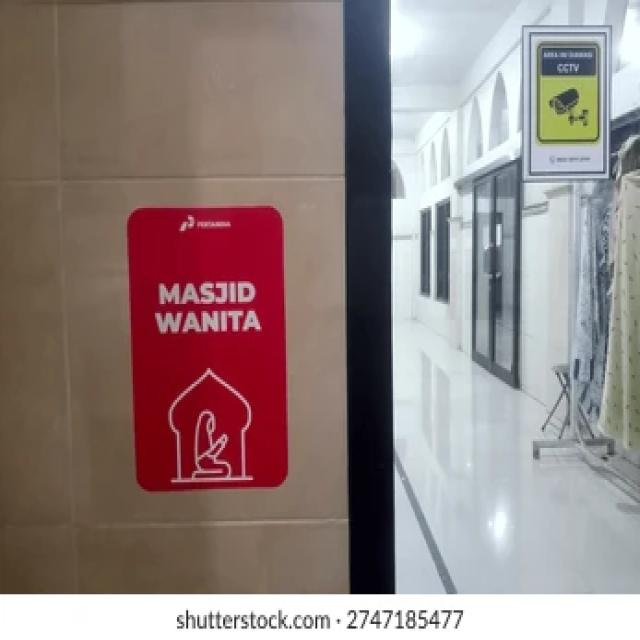surau_icon: (157, 361, 262, 493)
